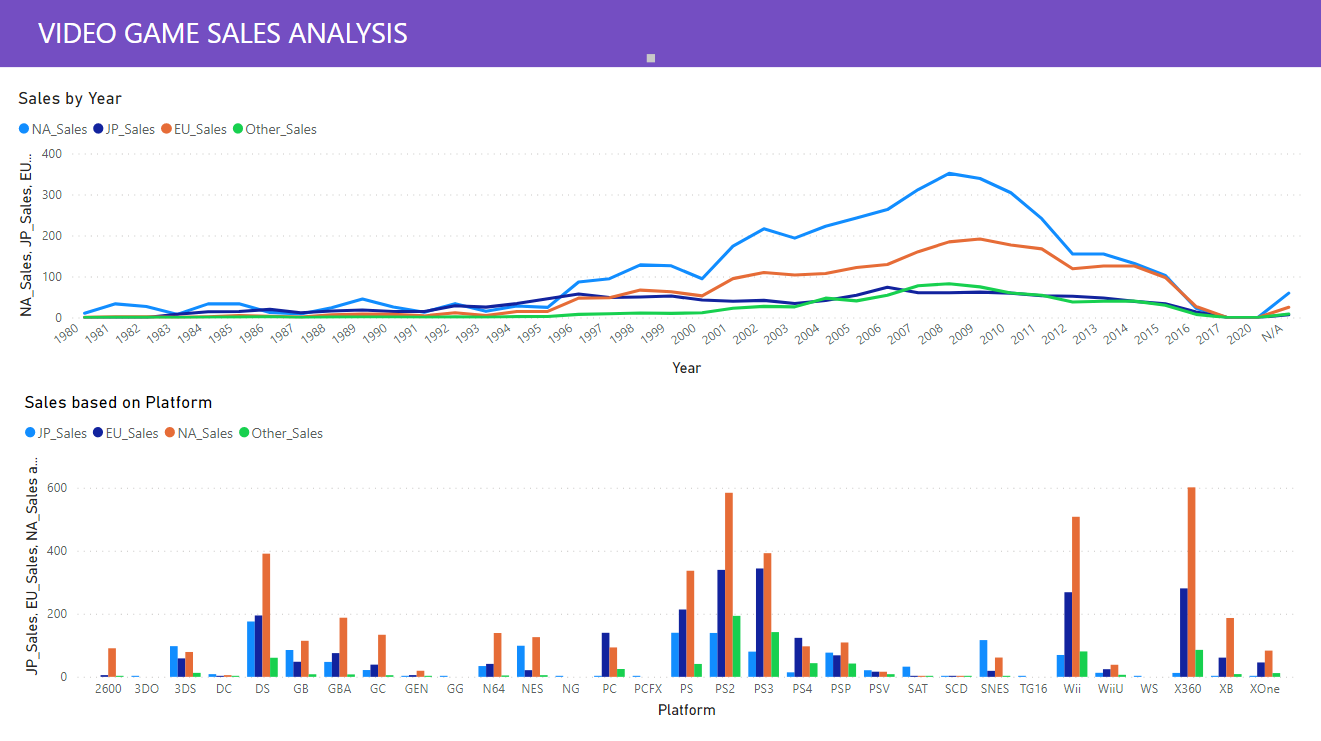

Layout of this report page (visuals, bound fields, positions):
{"tool":"powerbi","page":{"name":"Page 2","canvas":[1280,720],"ordinal":1},"visuals":[{"type":"shape","box":[0,0,1280.3,66.6],"z":0},{"type":"textbox","title":"VIDEO GAME SALES ANALYSIS","box":[32.7,13.3,607.5,53.2],"z":1000},{"type":"lineChart","title":"Sales by Year","fields":{"Category":["vgsales.Year"],"Y":["Sum(vgsales.NA_Sales)","Sum(vgsales.JP_Sales)","Sum(vgsales.EU_Sales)","Sum(vgsales.Other_Sales)"]},"box":[13.3,85.9,1252.4,284.4],"z":2000},{"type":"clusteredColumnChart","title":"Sales based on Platform","fields":{"Y":["Sum(vgsales.JP_Sales)","Sum(vgsales.EU_Sales)","Sum(vgsales.NA_Sales)","Sum(vgsales.Other_Sales)"],"Category":["vgsales.Platform"]},"box":[19.4,379.4,1241.2,321.2],"z":3000}]}

Visuals, with their boxes in screenshot pixels (x1, y1, x2, y2), scaled from the page's 1280x720 canvas onto the 1321x741 screenshot:
shape: bbox(0, 0, 1320, 69)
"VIDEO GAME SALES ANALYSIS" textbox: bbox(34, 14, 661, 68)
"Sales by Year" lineChart: bbox(14, 88, 1306, 381)
"Sales based on Platform" clusteredColumnChart: bbox(20, 390, 1301, 721)
